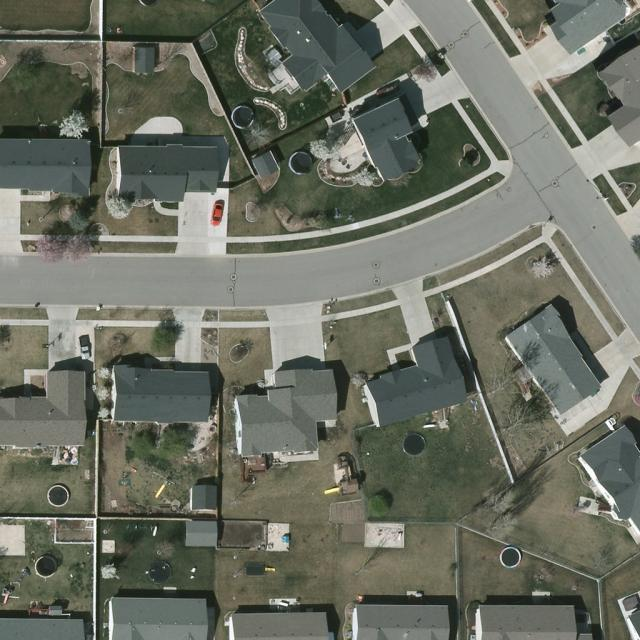vehicle: (78, 335, 94, 360), (208, 202, 224, 227)
